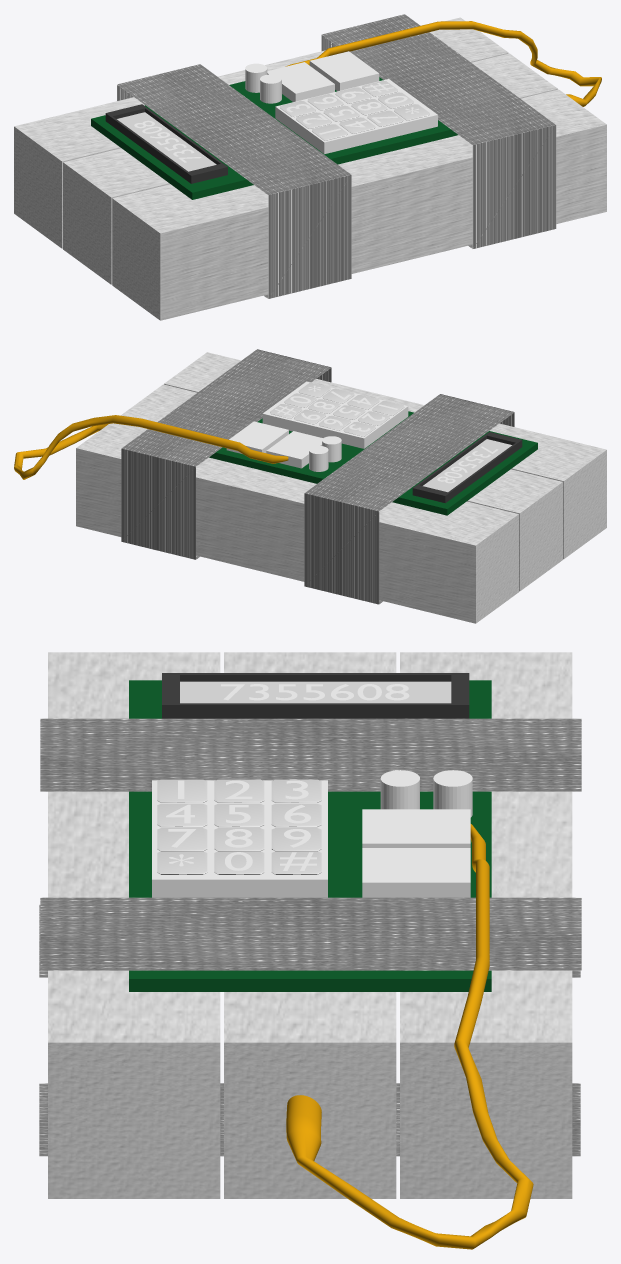
File: bomb.gltf
3 views of the same model, one above another, from view 1: azimuth 30°, elevation 25°; view 2: azimuth 150°, elevation 25°; view 3: azimuth 270°, elevation 25° (orthographic). The views are drawn at different scales.
Visible parts, largest first — view 1: Cube, Plane.001, Plane, Printplaat, Cube.004, Cylinder.002, Cube.005, Cube.001, Cube.017, Cube.002, Cylinder.001, Cylinder (+1 smaller); view 2: Cube, Plane.001, Plane, Printplaat, Cylinder.002, Cube.004, Cube.005, Cube.001, Cube.002, Cube.017, Cylinder, Cylinder.001 (+1 smaller); view 3: Cube, Plane, Plane.001, Printplaat, Cylinder.002, Cube.005, Cube.004, Cube.017, Cube.001, Cube.002, Cylinder, Cylinder.001 (+13 smaller).
Part boxes in pixels (x1,y1,x2,y2): Cube: (14, 17, 606, 320); Plane.001: (117, 64, 351, 298); Plane: (321, 14, 556, 248); Printplaat: (91, 77, 457, 199); Cube.004: (275, 79, 437, 154); Cylinder.002: (285, 21, 601, 106); Cube.005: (105, 104, 227, 183); Cube.001: (117, 112, 216, 171); Cube.017: (309, 51, 379, 91); Cube.002: (267, 62, 334, 101); Cylinder.001: (260, 74, 281, 103); Cylinder: (245, 63, 267, 92); Cube: (76, 352, 606, 623); Plane.001: (304, 394, 514, 604); Plane: (121, 349, 331, 559); Printplaat: (209, 411, 537, 515); Cylinder.002: (14, 415, 288, 479); Cube.004: (262, 381, 408, 448); Cube.005: (412, 432, 522, 503); Cube.001: (423, 439, 511, 492); Cube.002: (266, 431, 322, 468); Cube.017: (226, 421, 288, 453); Cylinder: (309, 445, 328, 471); Cylinder.001: (322, 436, 341, 462); Cube: (48, 652, 572, 1198); Plane: (39, 897, 581, 1156); Plane.001: (39, 718, 581, 977); Printplaat: (129, 680, 491, 991); Cylinder.002: (286, 824, 533, 1249); Cube.005: (162, 673, 469, 718); Cube.004: (152, 780, 327, 897); Cube.017: (362, 848, 470, 897); Cube.001: (180, 681, 451, 703); Cube.002: (362, 809, 470, 847); Cylinder: (433, 770, 472, 817); Cylinder.001: (380, 770, 419, 809).
Size of the model in its own units: 12.94 by 2.72 by 6.16.
Materials: 22 (3 with a texture image).
